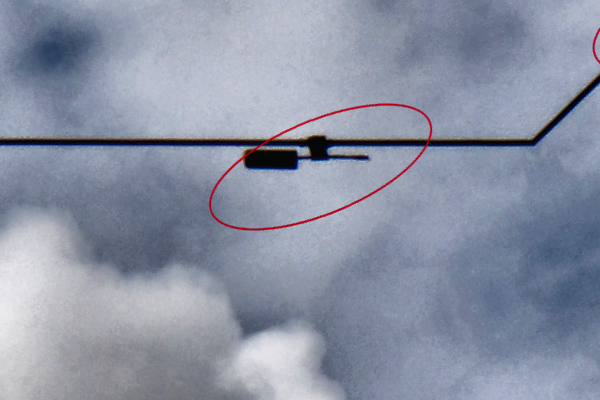damper_defect: (239, 133, 373, 174)
